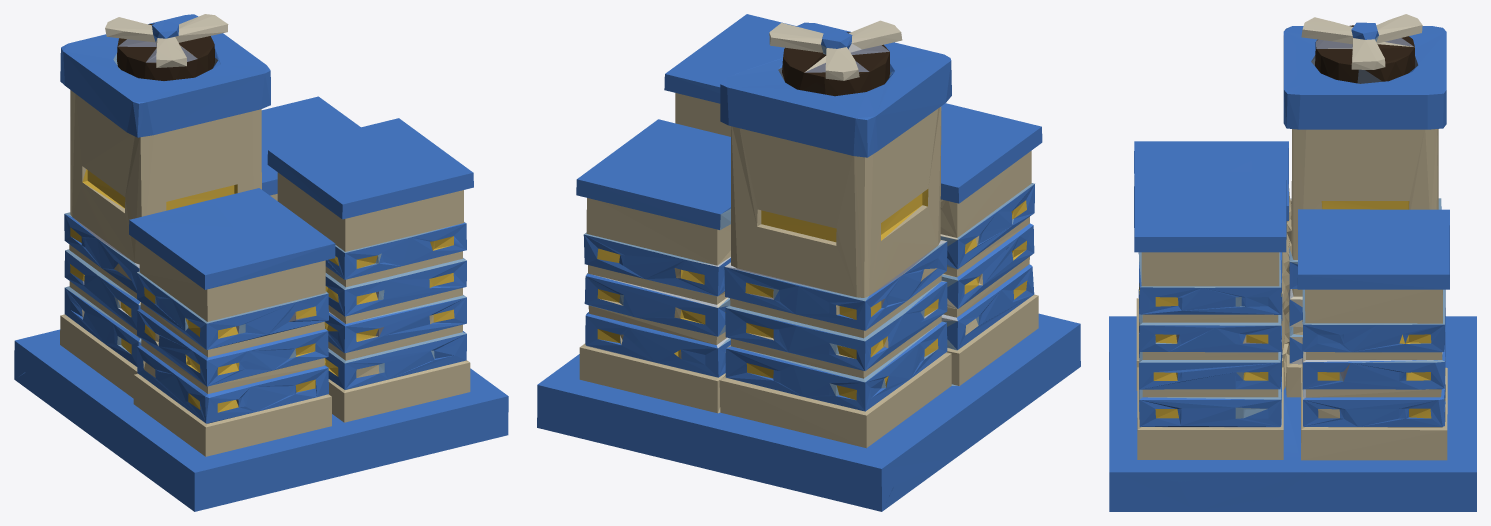
The model's file is cluster.glb.
3 views of the same model, side by side, from view 1: azimuth 30°, elevation 25°; view 2: azimuth 150°, elevation 25°; view 3: azimuth 270°, elevation 25° (orthographic). The views are drawn at different scales.
Visible parts, largest first — view 1: cluster; view 2: cluster; view 3: cluster.
Boxes of the visible parts, x1=… form: cluster: x1=14, y1=14, x2=508, y2=511; cluster: x1=537, y1=14, x2=1080, y2=511; cluster: x1=1109, y1=14, x2=1476, y2=511.
Bounding box in the file's own units: 1.69 × 1.9 × 1.68.
